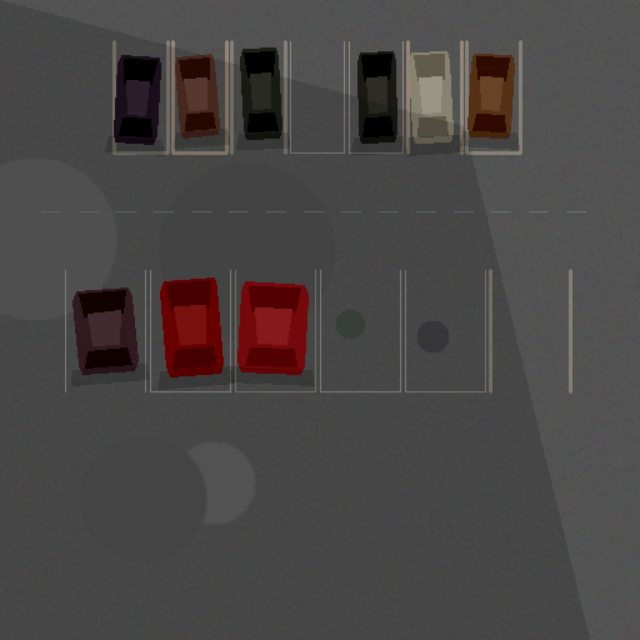space-empty: (320, 270, 400, 391), (405, 270, 485, 391), (490, 270, 570, 391), (290, 41, 344, 152)
space-occupied: (65, 270, 145, 391), (150, 270, 230, 391), (235, 270, 315, 391), (114, 41, 168, 152), (172, 41, 226, 152), (231, 41, 285, 152), (466, 41, 520, 152), (349, 41, 402, 152), (408, 41, 461, 152)
